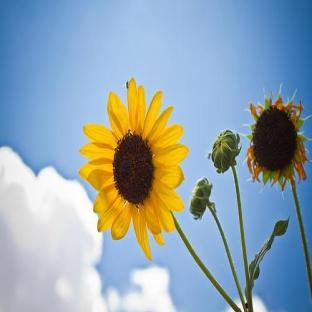sunflower: (79, 79, 241, 312)
